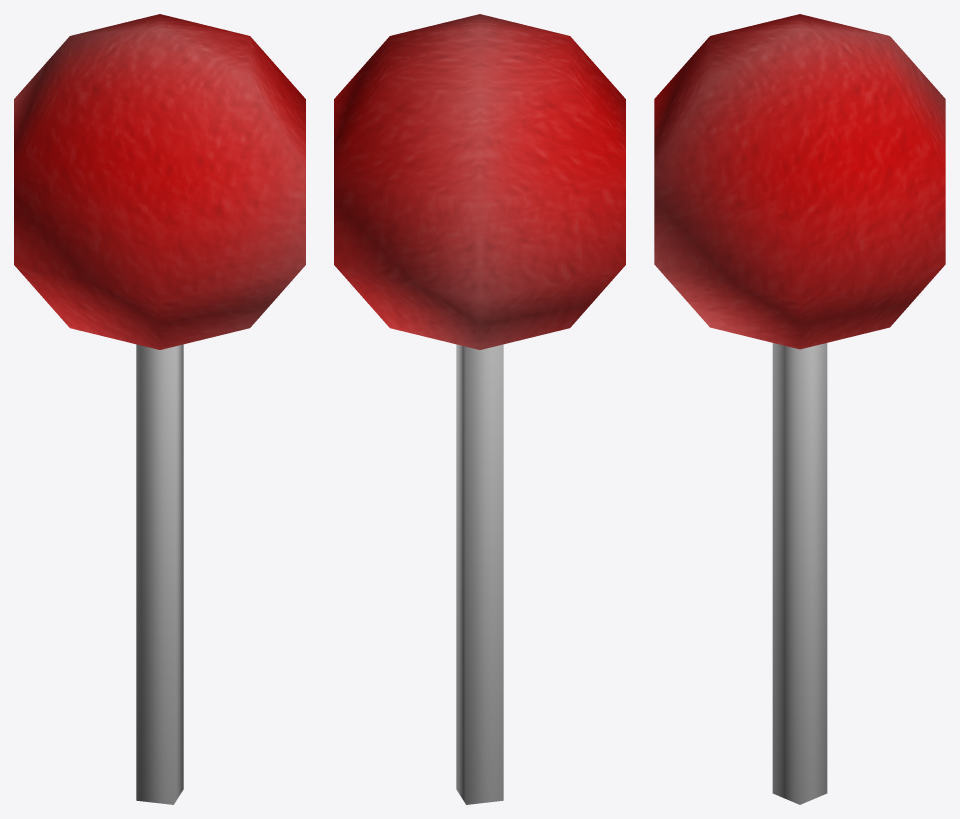
Rendered from lollipop.fbx.
3 views of the same model, side by side, from view 1: azimuth 30°, elevation 25°; view 2: azimuth 150°, elevation 25°; view 3: azimuth 270°, elevation 25° (orthographic).
Parts seen in each view (by area): view 1: lollipop; view 2: lollipop; view 3: lollipop.
Boxes of the visible parts, x1,y1,x2,y2 form: lollipop: [14, 14, 305, 804]; lollipop: [334, 14, 625, 804]; lollipop: [654, 14, 945, 804].
Bounding box in the file's own units: 0.1075 × 0.2697 × 0.0931.
1 material, 1 textured.
